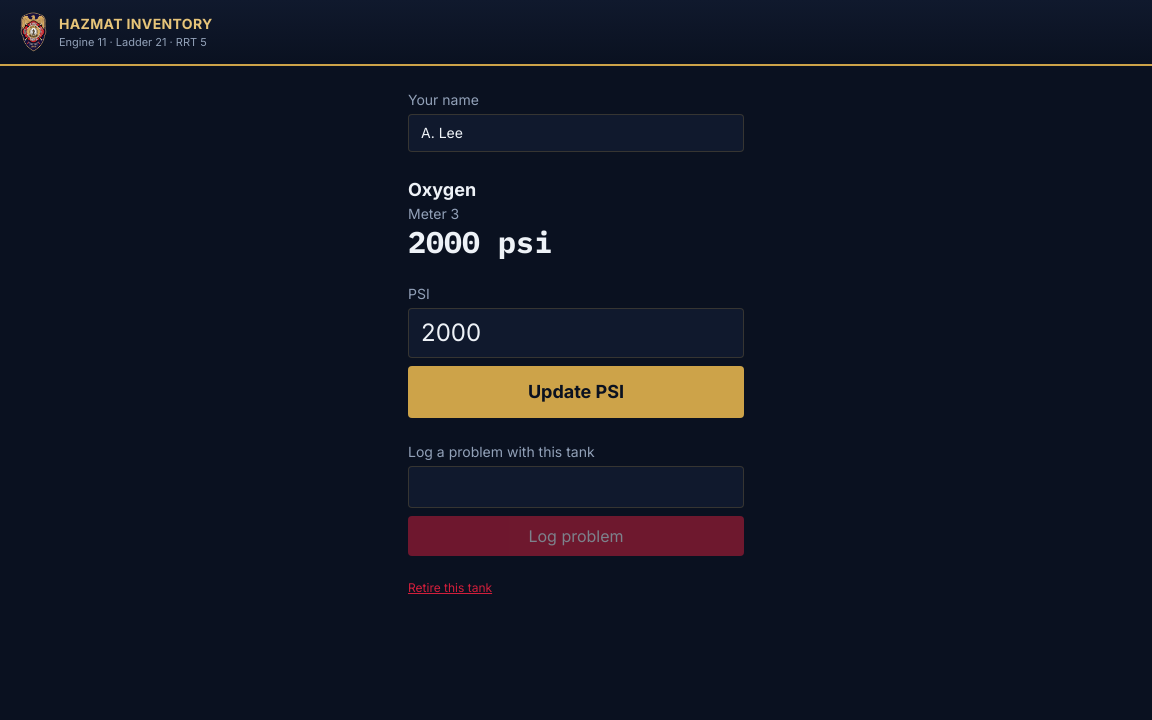
ScanTankPage › shows an error and keeps the form usable when the PSI update fails
Expected: the heading "Oxygen" is shown, x1=408 y1=179 x2=476 y2=200
Click the button "Update PSI" at {"x": 576, "y": 392}, box x1=408 y1=366 x2=744 y2=418
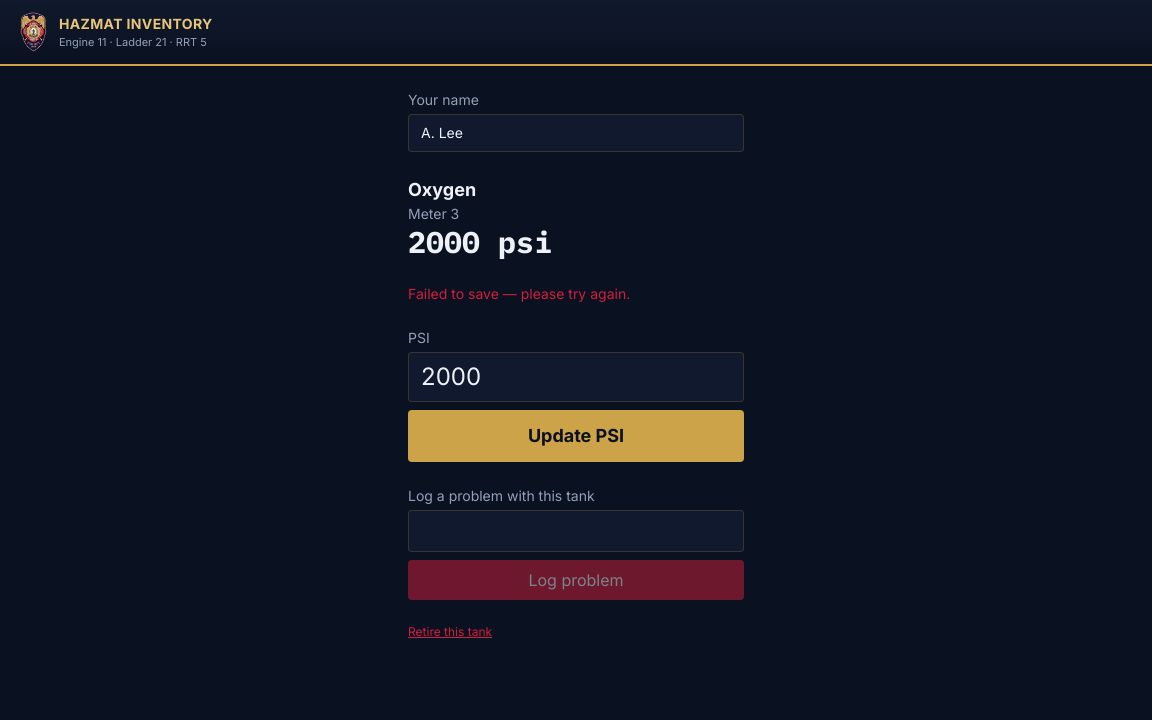
Expected: the button "Update PSI" is enabled, x1=408 y1=410 x2=744 y2=462
Expected: the text "Failed to save — please try again." is shown, x1=408 y1=285 x2=630 y2=302
